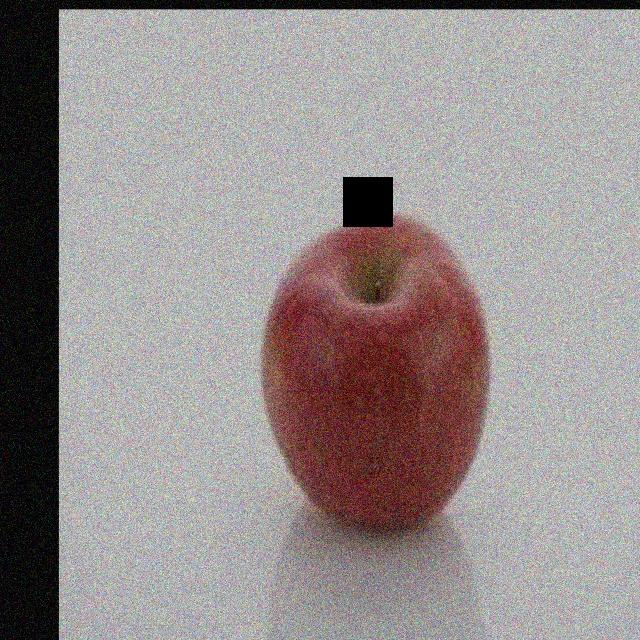red apple: (262, 210, 494, 535)
